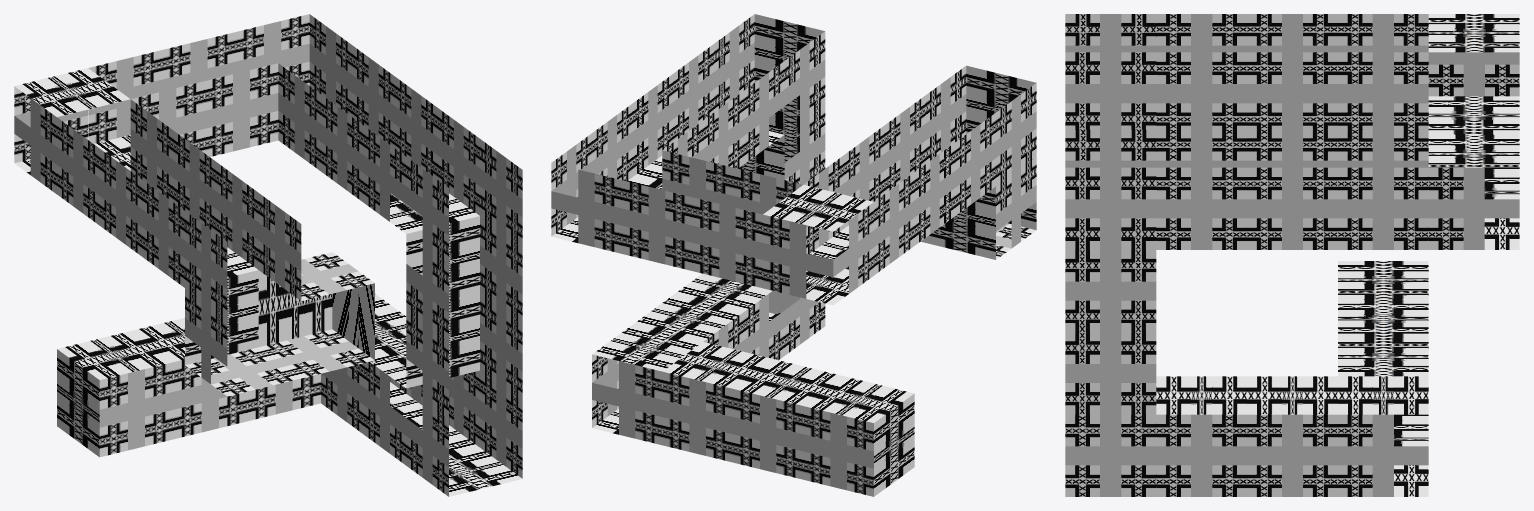
File: mazetester.fbx
3 renders of one model, left to right at view 1: azimuth 30°, elevation 25°; view 2: azimuth 150°, elevation 25°; view 3: azimuth 270°, elevation 25°, orthographic. The views are drawn at different scales.
Visible parts, largest first — view 1: maze-test-simp; view 2: maze-test-simp; view 3: maze-test-simp.
Part boxes in pixels (x1,y1,x2,y2): maze-test-simp: (14, 14, 522, 496); maze-test-simp: (551, 14, 1036, 496); maze-test-simp: (1065, 14, 1519, 496).
Bounding box in the file's own units: 8 × 8 × 10.
